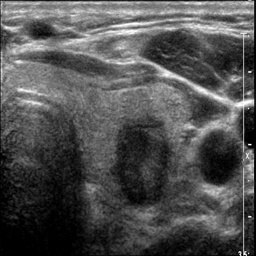mass: (118, 118, 171, 204)
